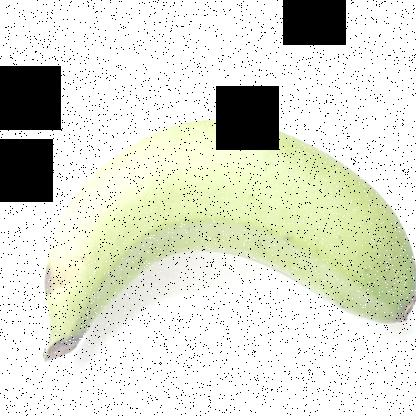freshunripe: (17, 99, 415, 377)
